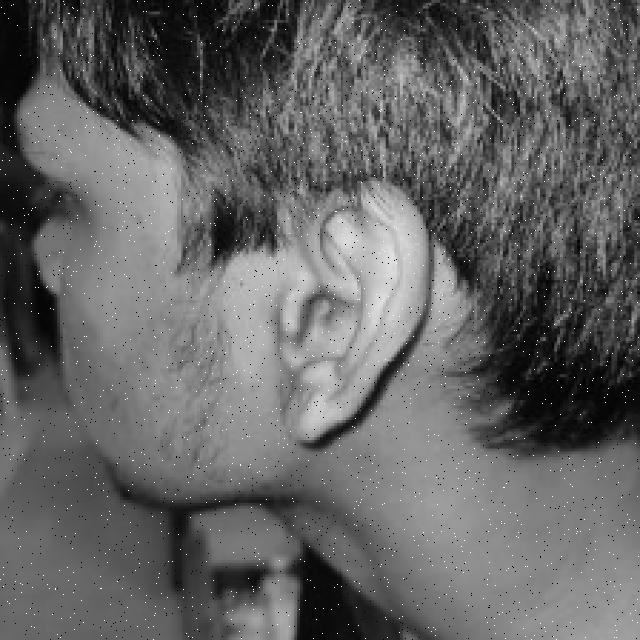ear: (280, 180, 426, 440)
